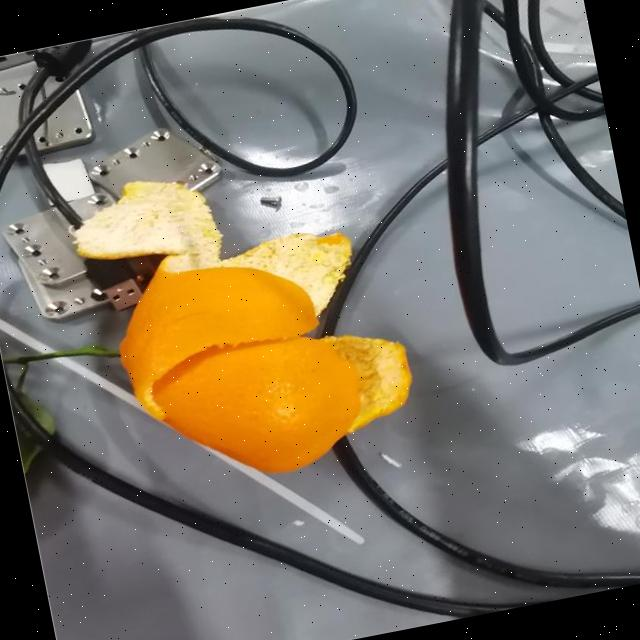orange-peel: (101, 212, 426, 500)
